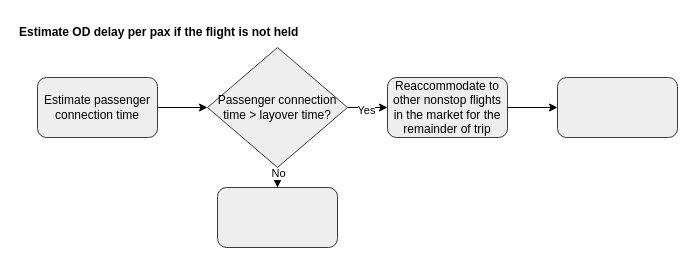
This 695x265 diagram has some shape labels left out. The centre of each missing label's shape, as x and y in pixels:
"0 OD delay" belongs at (277,217).
"Difference between new estimated trip time - original trip time" belongs at (617,107).
